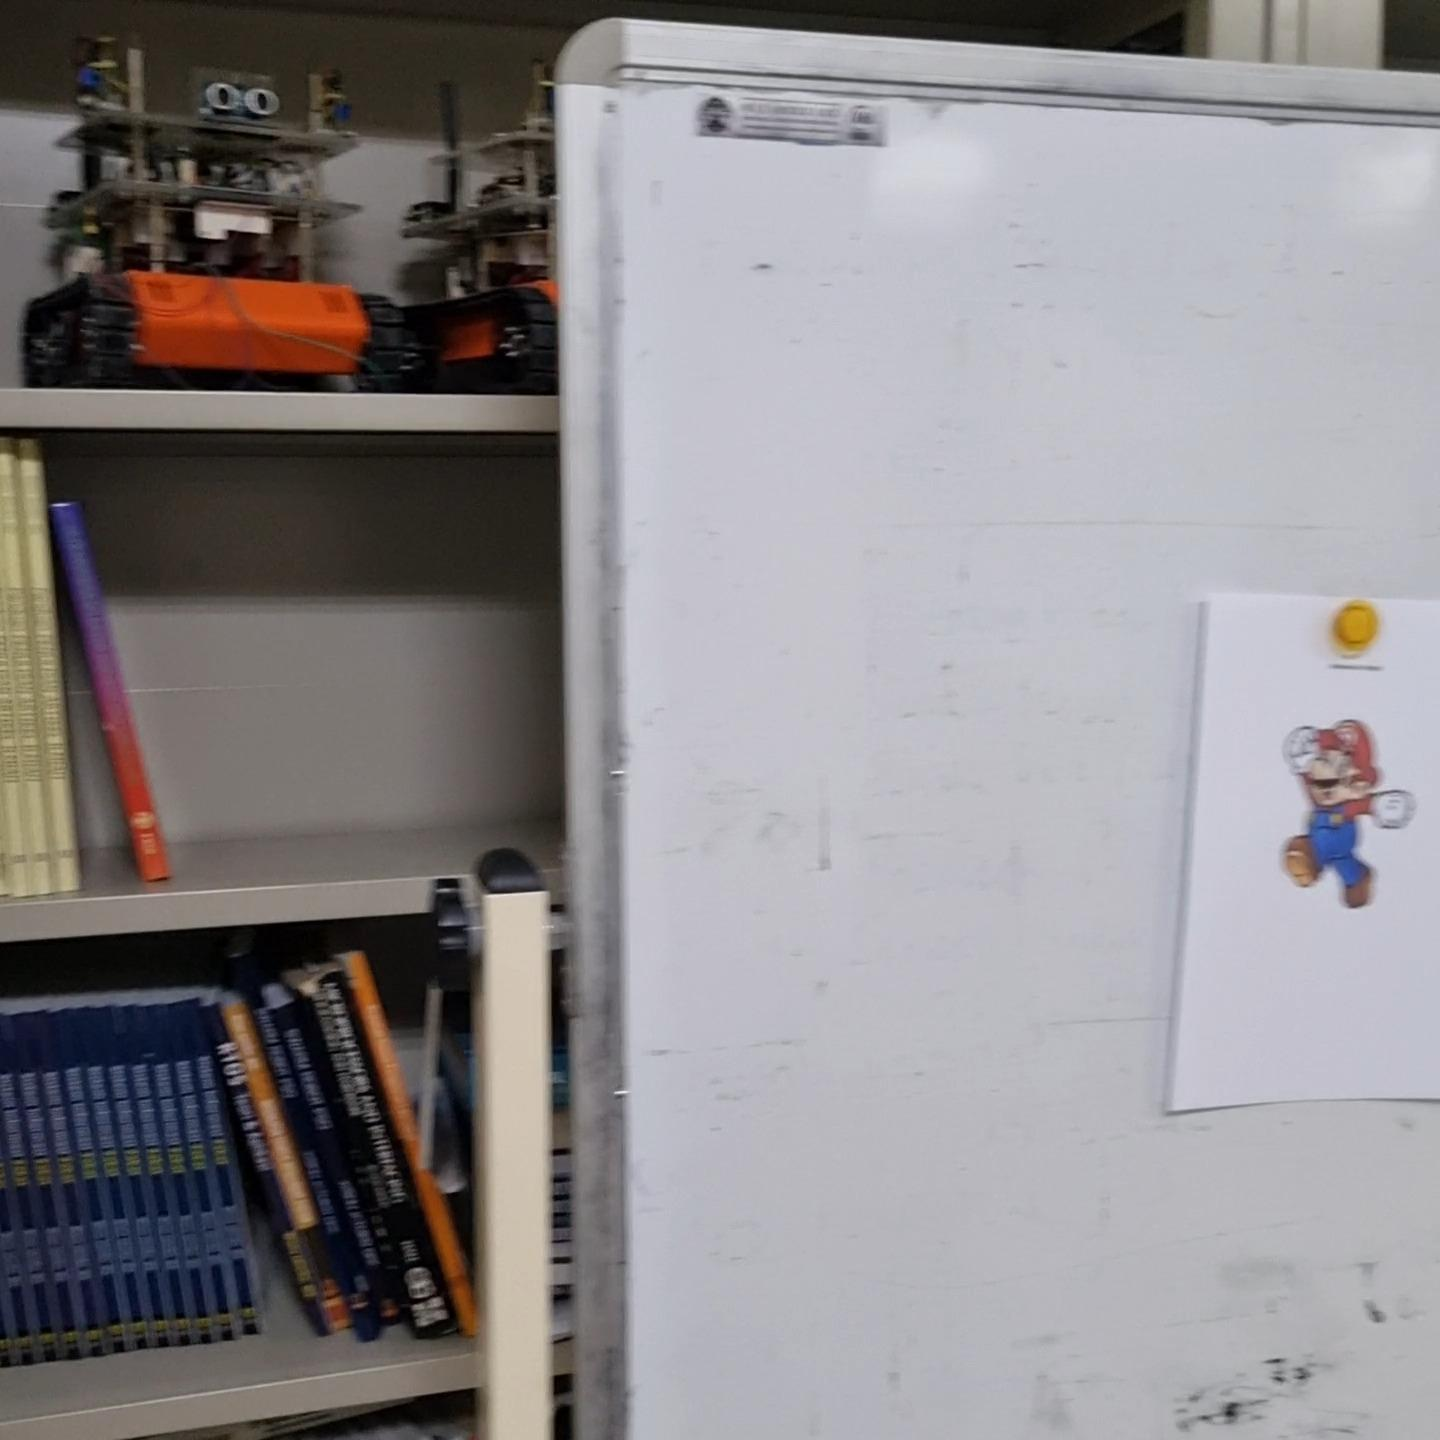mario: (1267, 707, 1420, 910)
